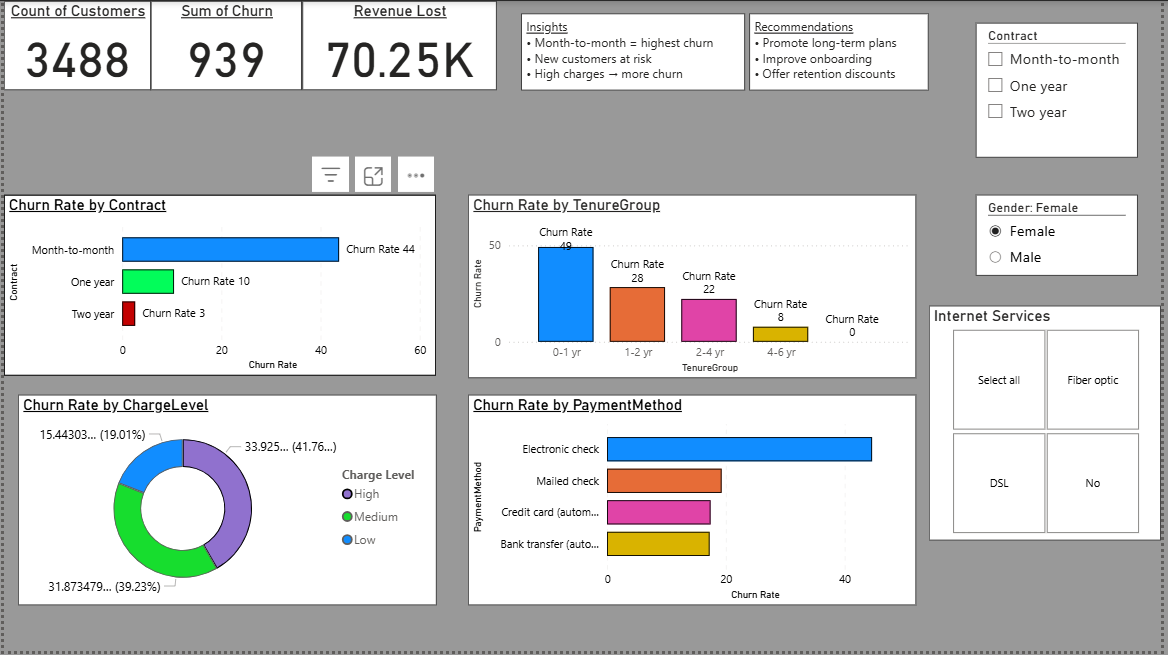

This screenshot's page, from the dashboard's own definition file:
{"tool":"powerbi","page":{"name":"Page 1","canvas":[1280,720],"ordinal":0},"visuals":[{"type":"card","title":"Count of Customers","fields":{"Values":["Count(cleaned_churn.customerID)"]},"box":[0,0,162.8,98.6],"z":0},{"type":"card","title":"Sum of Churn","fields":{"Values":["Sum(cleaned_churn.Churn)"]},"box":[162.8,0,167.3,98.6],"z":1000},{"type":"card","title":"Revenue Lost","fields":{"Values":["cleaned_churn.Revenue Lost"]},"box":[330.1,0,215.1,98.6],"z":2000},{"type":"barChart","fields":{"Y":["cleaned_churn.Churn Rate"],"Category":["cleaned_churn.Contract"]},"box":[0,215.1,478,200.2],"z":3000},{"type":"columnChart","fields":{"Y":["cleaned_churn.Churn Rate"],"Category":["cleaned_churn.TenureGroup"]},"box":[513.9,215.1,495.9,203.2],"z":4000},{"type":"donutChart","fields":{"Y":["cleaned_churn.Churn Rate"],"Category":["cleaned_churn.ChargeLevel"]},"box":[14.9,436.2,463.1,233],"z":5000},{"type":"barChart","fields":{"Y":["cleaned_churn.Churn Rate"],"Category":["cleaned_churn.PaymentMethod"]},"box":[513.9,436.2,495.9,233],"z":6000},{"type":"slicer","fields":{"Values":["cleaned_churn.gender"]},"box":[1075.5,215.1,179.3,89.6],"z":6001},{"type":"slicer","title":"Internet Services","fields":{"Values":["cleaned_churn.InternetService"]},"box":[1023.2,337.6,256.9,259.9],"z":6002},{"type":"slicer","title":"Contract","fields":{"Values":["cleaned_churn.Contract"]},"box":[1075.5,23.9,179.3,149.4],"z":6003},{"type":"textbox","box":[572.1,13.4,248,85.1],"z":6004},{"type":"textbox","box":[824.6,13.4,198.7,85.1],"z":6005}]}

Visuals, with their boxes in screenshot pixels (x1, y1, x2, y2), scaled from the page's 1280x720 canvas onto the 1168x655 screenshot:
"Count of Customers" card: pyautogui.locateOnScreen(0, 0, 149, 90)
"Sum of Churn" card: pyautogui.locateOnScreen(149, 0, 301, 90)
"Revenue Lost" card: pyautogui.locateOnScreen(301, 0, 497, 90)
barChart - cleaned_churn.Churn Rate x cleaned_churn.Contract: pyautogui.locateOnScreen(0, 196, 436, 378)
columnChart - cleaned_churn.Churn Rate x cleaned_churn.TenureGroup: pyautogui.locateOnScreen(469, 196, 921, 381)
donutChart - cleaned_churn.Churn Rate x cleaned_churn.ChargeLevel: pyautogui.locateOnScreen(14, 397, 436, 609)
barChart - cleaned_churn.Churn Rate x cleaned_churn.PaymentMethod: pyautogui.locateOnScreen(469, 397, 921, 609)
slicer - cleaned_churn.gender: pyautogui.locateOnScreen(981, 196, 1145, 277)
"Internet Services" slicer: pyautogui.locateOnScreen(934, 307, 1167, 544)
"Contract" slicer: pyautogui.locateOnScreen(981, 22, 1145, 158)
textbox: pyautogui.locateOnScreen(522, 12, 748, 90)
textbox: pyautogui.locateOnScreen(752, 12, 934, 90)
